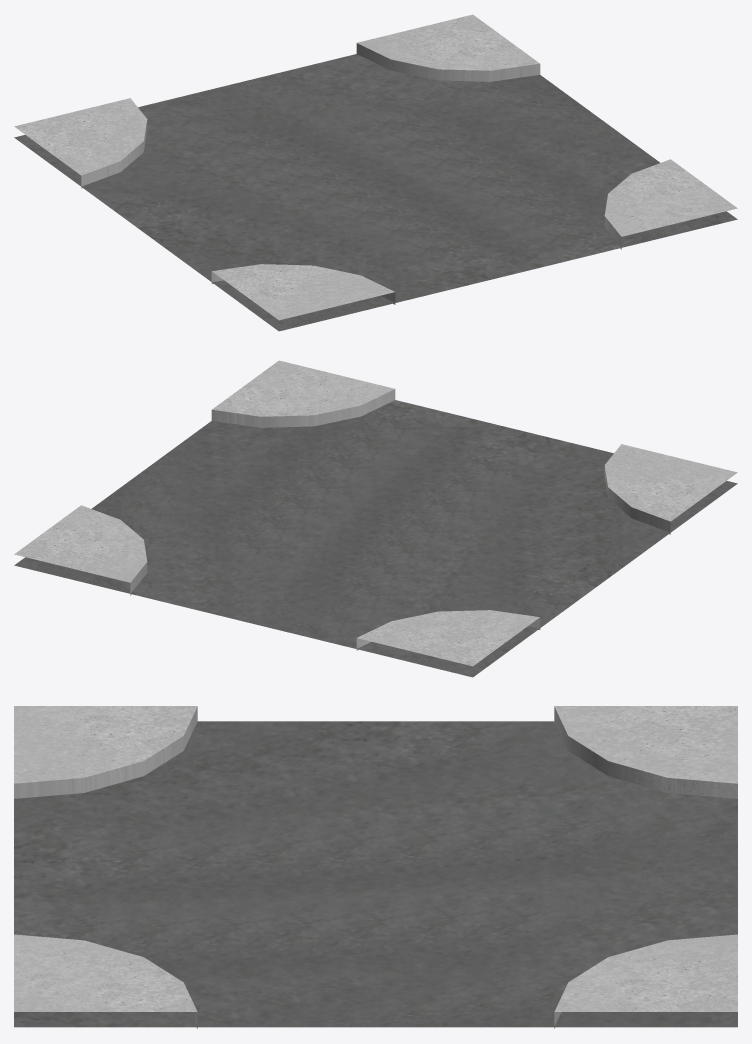
Rendered from RoadIntersection.fbx.
The picture shows the model from 3 angles, top to bottom: view 1: azimuth 30°, elevation 25°; view 2: azimuth 150°, elevation 25°; view 3: azimuth 270°, elevation 25°; orthographic projection. The views are drawn at different scales.
Parts seen in each view (by area): view 1: pCylinder12; view 2: pCylinder12; view 3: pCylinder12.
Boxes of the visible parts, <box> form: pCylinder12: <box>14,14,737,331</box>; pCylinder12: <box>14,360,737,677</box>; pCylinder12: <box>14,706,737,1028</box>.
Bounding box in the file's own units: 24 × 0.6493 × 24.
Materials: 2 (2 with a texture image).
